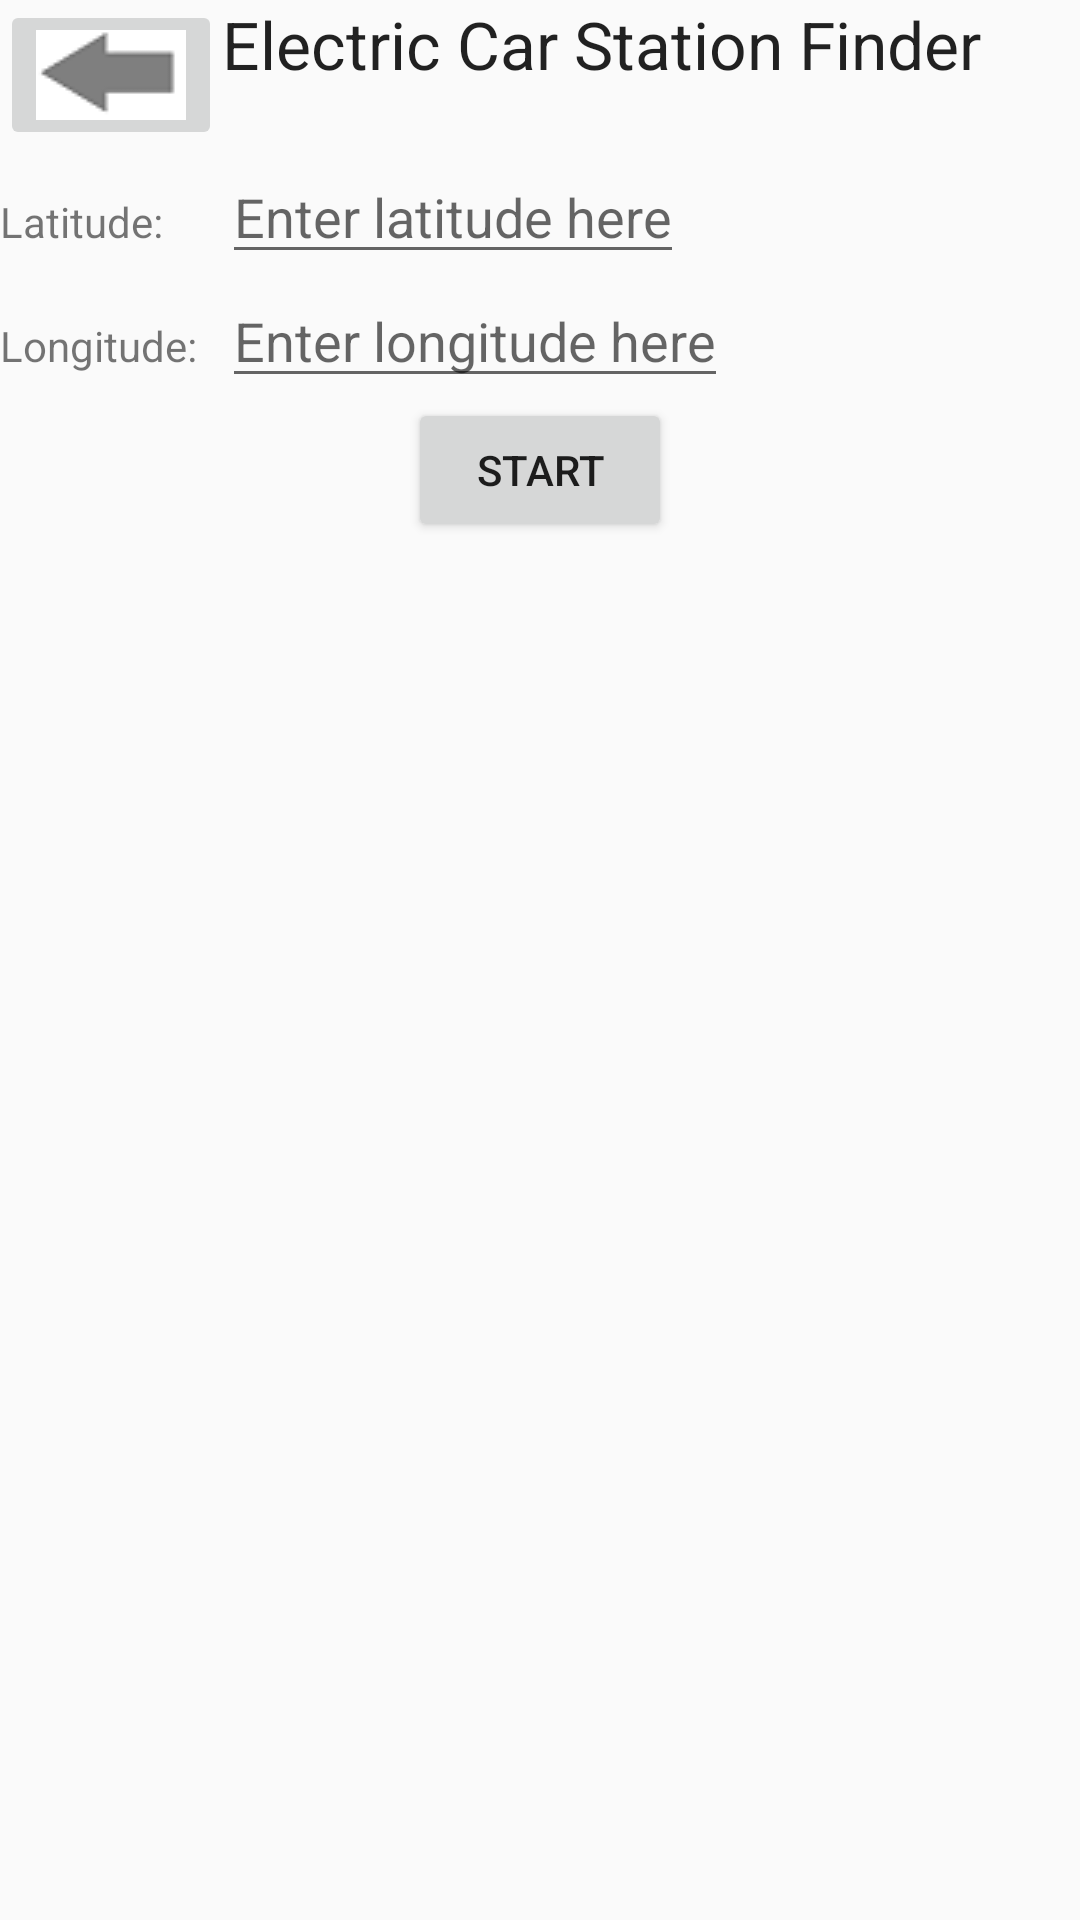

Where icons sit on this 1080×1920 app screen, as BBox(x1, y1, x2, y2):
back: BBox(12, 18, 210, 132)
